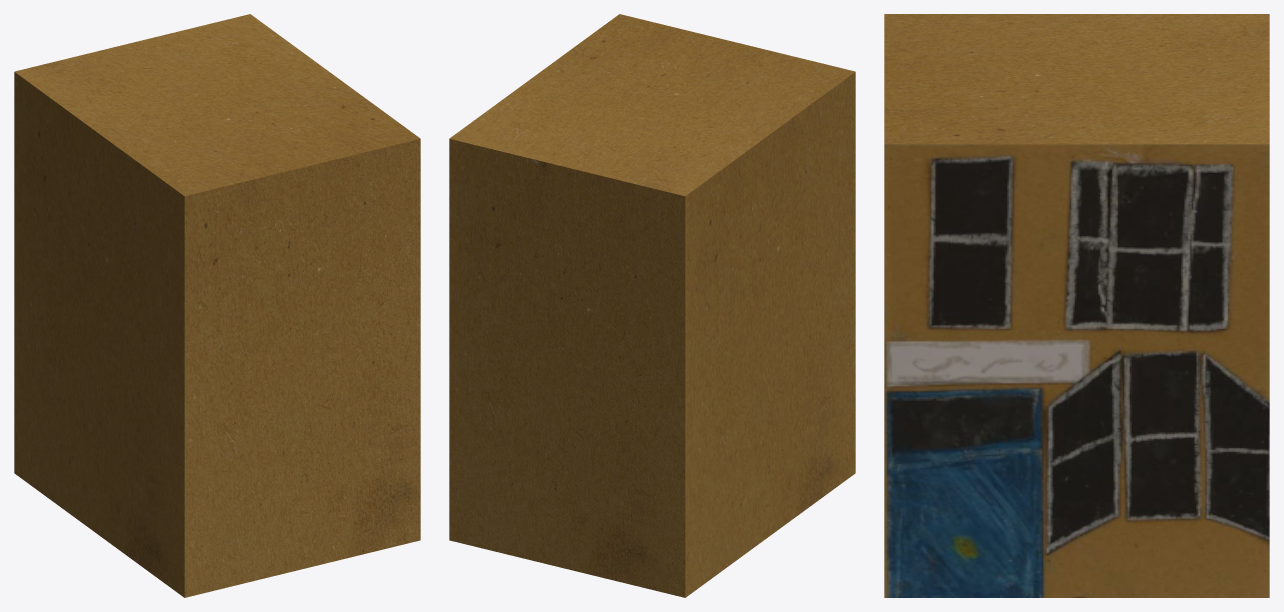
The picture shows the model from 3 angles, left to right: view 1: azimuth 30°, elevation 25°; view 2: azimuth 150°, elevation 25°; view 3: azimuth 270°, elevation 25°; orthographic projection. The views are drawn at different scales.
Parts seen in each view (by area): view 1: Cube, Cube.001; view 2: Cube, Cube.001; view 3: Cube, Cube.001.
Part boxes in pixels (x1,y1,x2,y2): Cube: (14,72,420,597); Cube.001: (14,14,420,196); Cube: (449,72,855,597); Cube.001: (449,14,855,196); Cube: (884,144,1269,597); Cube.001: (884,14,1269,144).
Size of the model in its own units: 8 by 13 by 10.
1 material, 1 textured.
